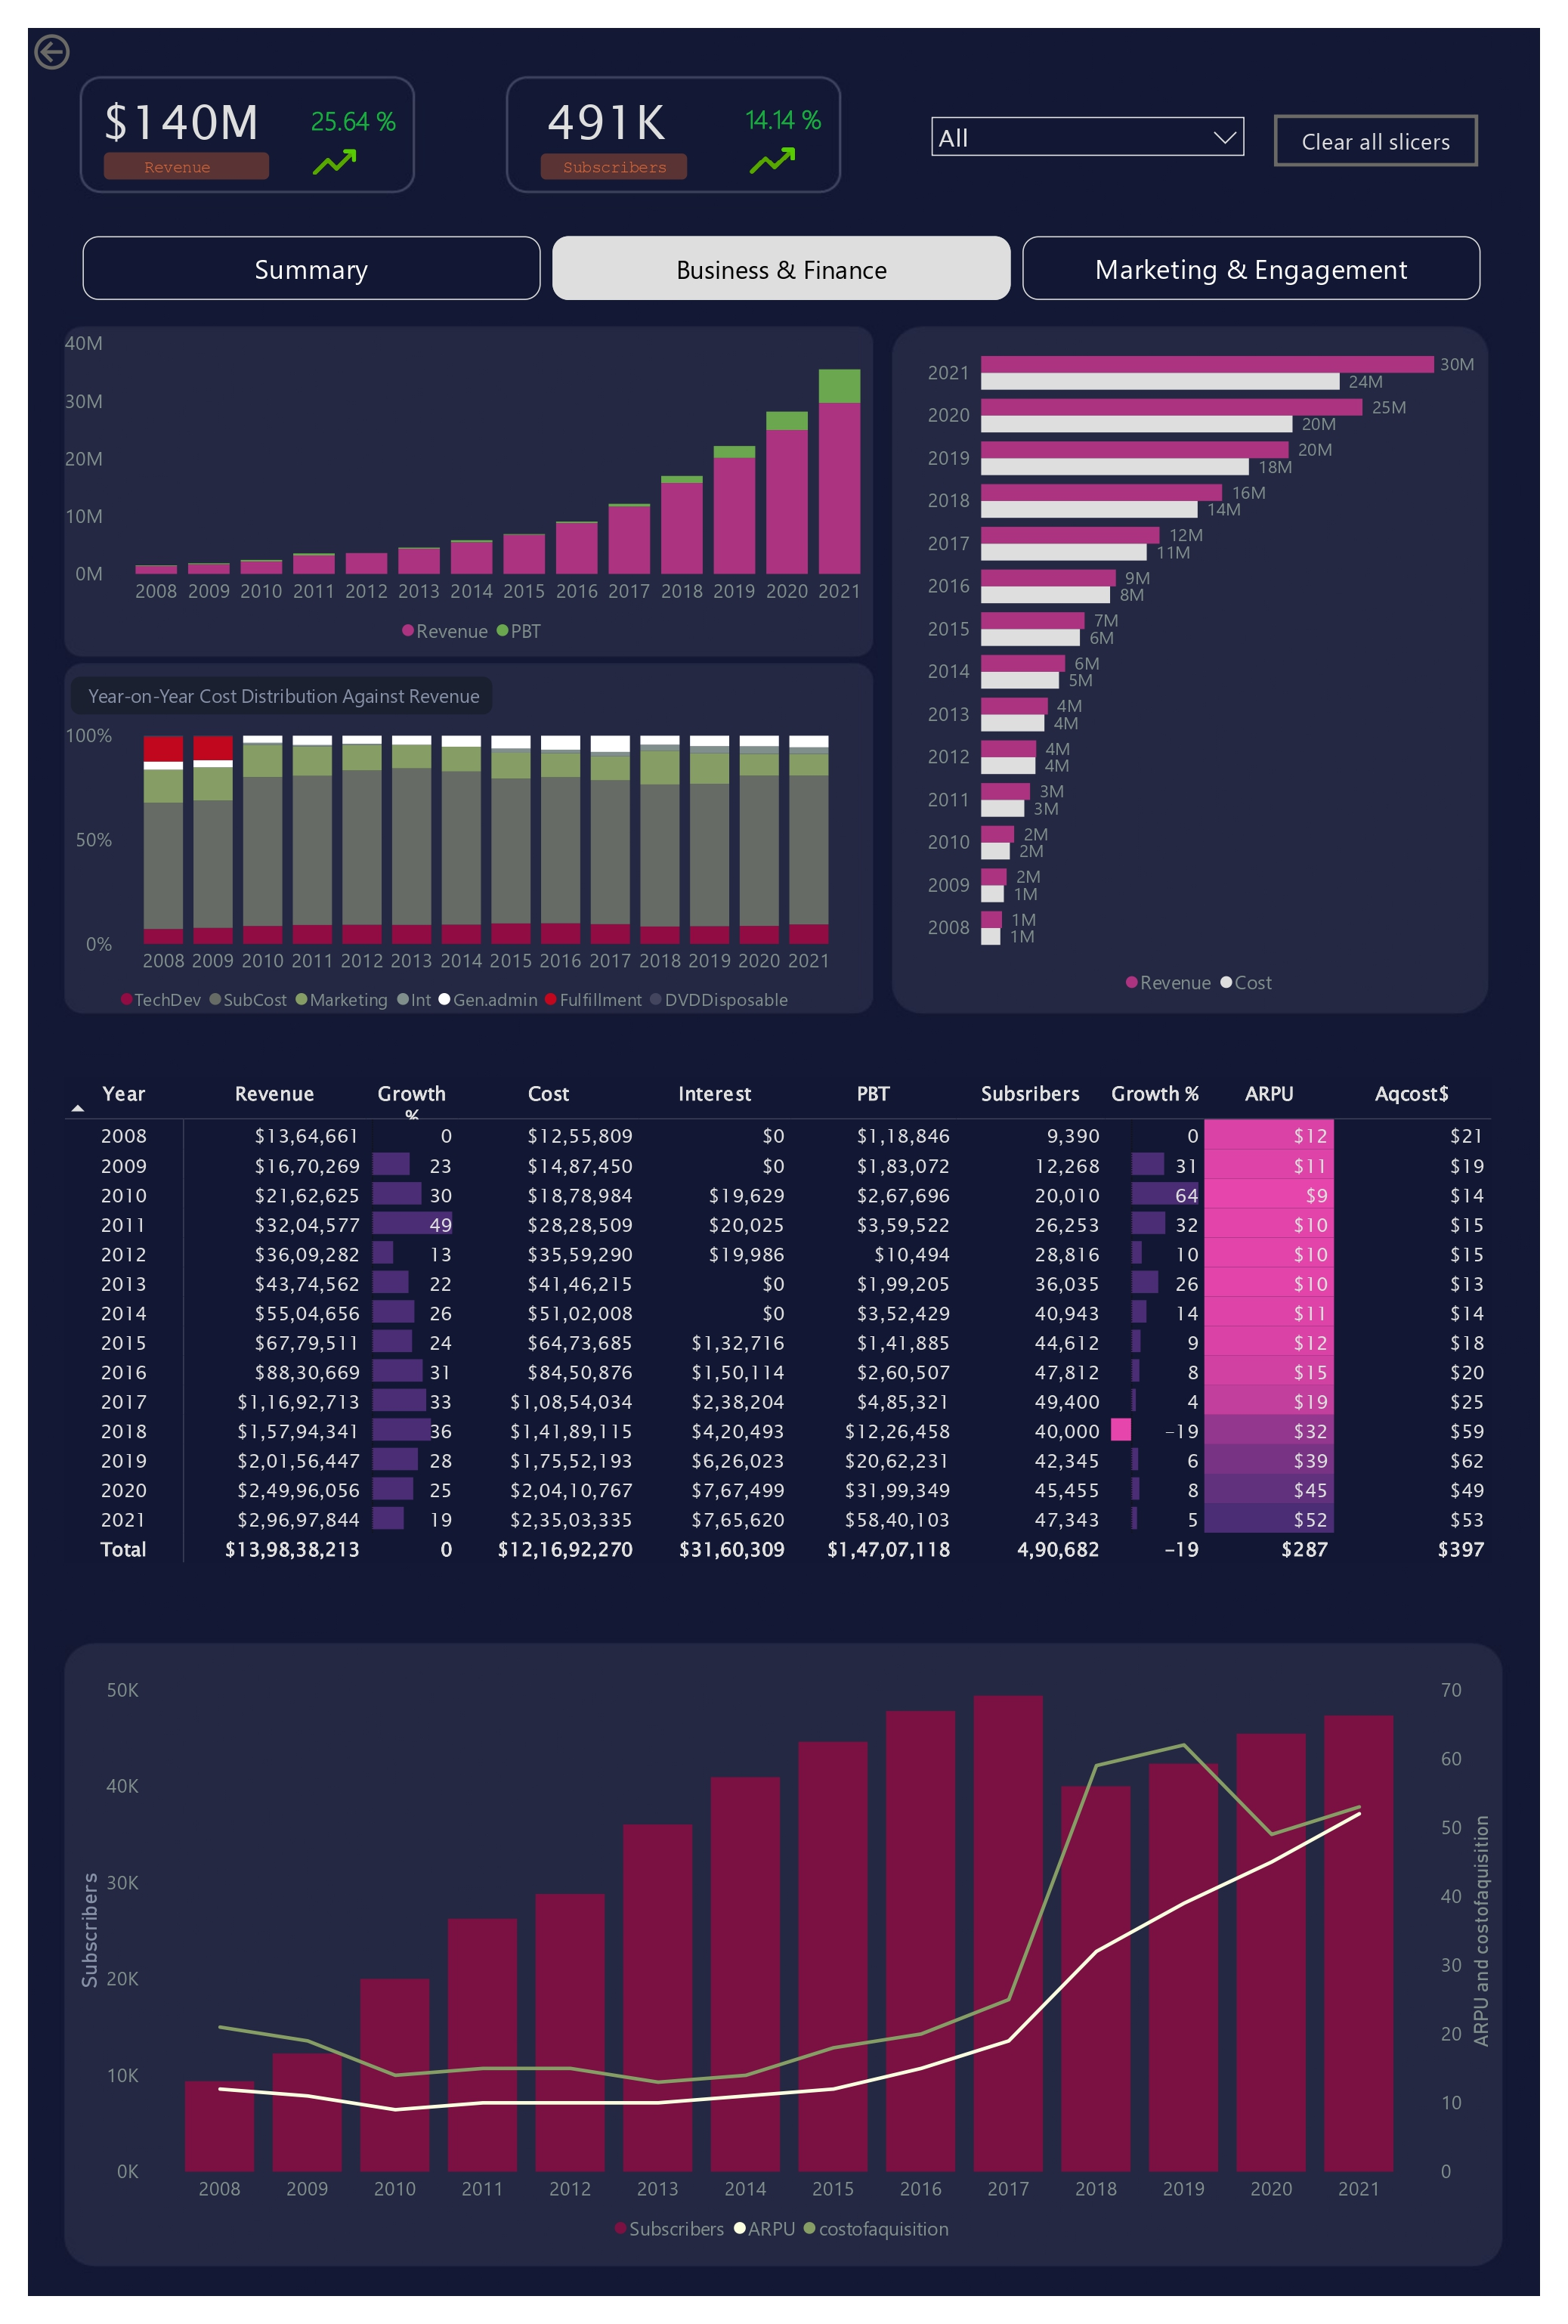

Layout of this report page (visuals, bound fields, positions):
{"tool":"powerbi","page":{"name":"Business & Finance","canvas":[1280,1920],"ordinal":1},"visuals":[{"type":"card","fields":{"Values":["Sum(netflix_financials.Revenue)"]},"box":[50,54,157,47],"z":0},{"type":"card","fields":{"Values":["Sum(netflix_financials.total_subsribers)"]},"box":[393,53,193,49],"z":1000},{"type":"slicer","fields":{"Values":["YearTable.Year"]},"box":[755,65,285,60],"z":2000},{"type":"columnChart","fields":{"Y":["Sum(netflix_financials.Revenue)","Sum(netflix_financials.PBT)"],"Category":["netflix_financials.Year"]},"box":[26,250,702,280],"z":3000},{"type":"clusteredBarChart","fields":{"Y":["Sum(netflix_financials.Revenue)","Sum(netflix_financials.total_cost)"],"Category":["netflix_financials.Year"]},"box":[756,250,474,578],"z":4000},{"type":"hundredPercentStackedColumnChart","fields":{"Y":["Sum(netflix_financials.Technology_development)","Sum(netflix_financials.subscription_cost)","Sum(netflix_financials.Marketing)","Sum(netflix_financials.Interest)","Sum(netflix_financials.General_administrative)","Sum(netflix_financials.Fulfillment_cost)","Sum(netflix_financials.Disposals_DVD)"],"Category":["netflix_financials.Year"]},"box":[26,582,674,260],"z":5000},{"type":"lineClusteredColumnComboChart","fields":{"Y":["Sum(netflix_financials.total_subsribers)"],"Y2":["Sum(netflix_financials.ARPU $)","Sum(netflix_financials.costofaquisition $)"],"Category":["netflix_financials.Year"]},"box":[36.2,1390,1207.5,492.5],"z":6000},{"type":"actionButton","box":[1055,73.3,173.3,43.3],"z":7000},{"type":"pivotTable","fields":{"Rows":["YearTable.Year"],"Values":["Sum(netflix_financials.Revenue)","Min(netflix_financials.revenuegrowth%)","Sum(netflix_financials.total_cost)","Sum(netflix_financials.Interest)","Sum(netflix_financials.PBT)","Sum(netflix_financials.total_subsribers)","Min(netflix_financials.subsriber growth %)","Sum(netflix_financials.ARPU $)","Sum(netflix_financials.costofaquisition $)"]},"box":[25.7,882.9,1228.6,480],"z":8000},{"type":"pageNavigator","box":[46,176,1184,54],"z":9000},{"type":"actionButton","box":[0,0,100,40],"z":10000},{"type":"card","fields":{"Values":["Avg(netflix_financials.revenuegrowth%)"]},"box":[218.6,35.7,112.9,87.1],"z":11000},{"type":"image","box":[204,86,109,54],"z":12000},{"type":"card","fields":{"Values":["Avg(netflix_financials.subsriber growth %)"]},"box":[591,51,97,54],"z":13000},{"type":"image","box":[573,84,114,56],"z":14000},{"type":"shape","box":[63.9,105.4,140,22.3],"z":15000},{"type":"textbox","box":[80.1,102.7,92.7,37.3],"z":16000},{"type":"shape","box":[433.8,105.7,124.2,22.5],"z":17000},{"type":"textbox","box":[437,102.7,120,31.2],"z":18000},{"type":"shape","box":[36.2,548.8,356.2,32.5],"z":19000},{"type":"textbox","box":[46.2,548.8,420,60],"z":20000}]}

Visuals, with their boxes in screenshot pixels (x1, y1, x2, y2):
card - Sum(netflix_financials.Revenue): (88, 92, 273, 147)
card - Sum(netflix_financials.total_subsribers): (493, 91, 720, 149)
slicer - YearTable.Year: (920, 105, 1256, 176)
columnChart - Sum(netflix_financials.Revenue) x Sum(netflix_financials.PBT): (59, 323, 888, 654)
clusteredBarChart - Sum(netflix_financials.Revenue) x Sum(netflix_financials.total_cost): (921, 323, 1480, 1006)
hundredPercentStackedColumnChart - Sum(netflix_financials.Technology_development) x Sum(netflix_financials.subscription_cost): (59, 716, 855, 1023)
lineClusteredColumnComboChart - Sum(netflix_financials.total_subsribers) x Sum(netflix_financials.ARPU $): (71, 1670, 1497, 2251)
actionButton: (1274, 115, 1479, 166)
pivotTable - YearTable.Year x Sum(netflix_financials.Revenue): (59, 1071, 1509, 1638)
pageNavigator: (82, 236, 1480, 300)
actionButton: (29, 29, 147, 76)
card - Avg(netflix_financials.revenuegrowth%): (286, 70, 419, 173)
image: (269, 130, 398, 193)
card - Avg(netflix_financials.subsriber growth %): (726, 88, 840, 153)
image: (705, 128, 840, 193)
shape: (104, 153, 269, 179)
textbox: (123, 150, 233, 193)
shape: (540, 153, 687, 180)
textbox: (544, 150, 686, 187)
shape: (71, 676, 492, 715)
textbox: (83, 676, 579, 747)
